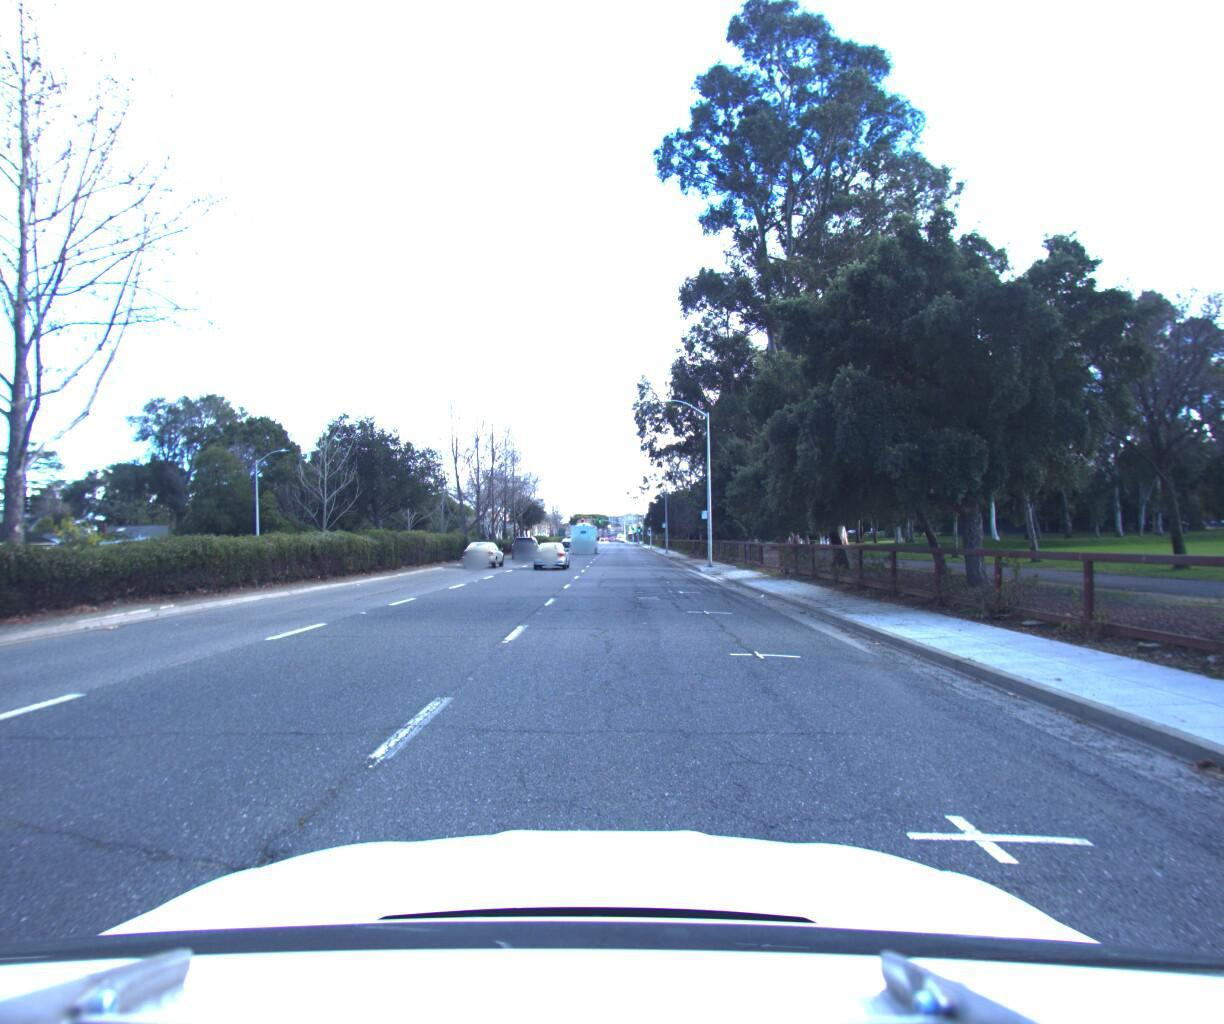bus: (569, 513, 604, 545)
car: (532, 533, 574, 566), (458, 532, 504, 562), (510, 527, 543, 552)
